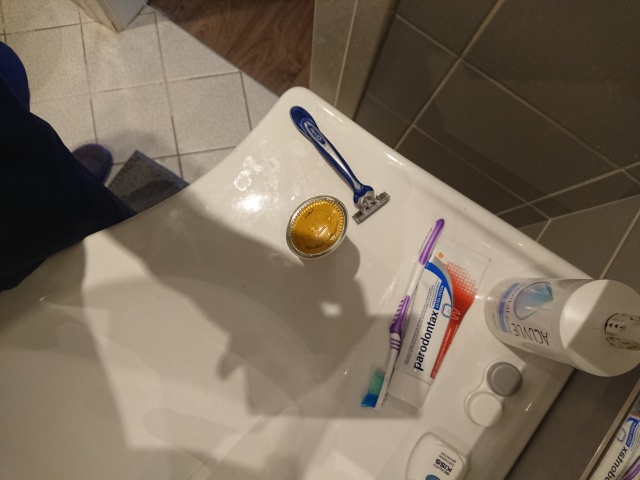Kotanyi Curry Spices Mix 70g: (285, 193, 352, 261)
